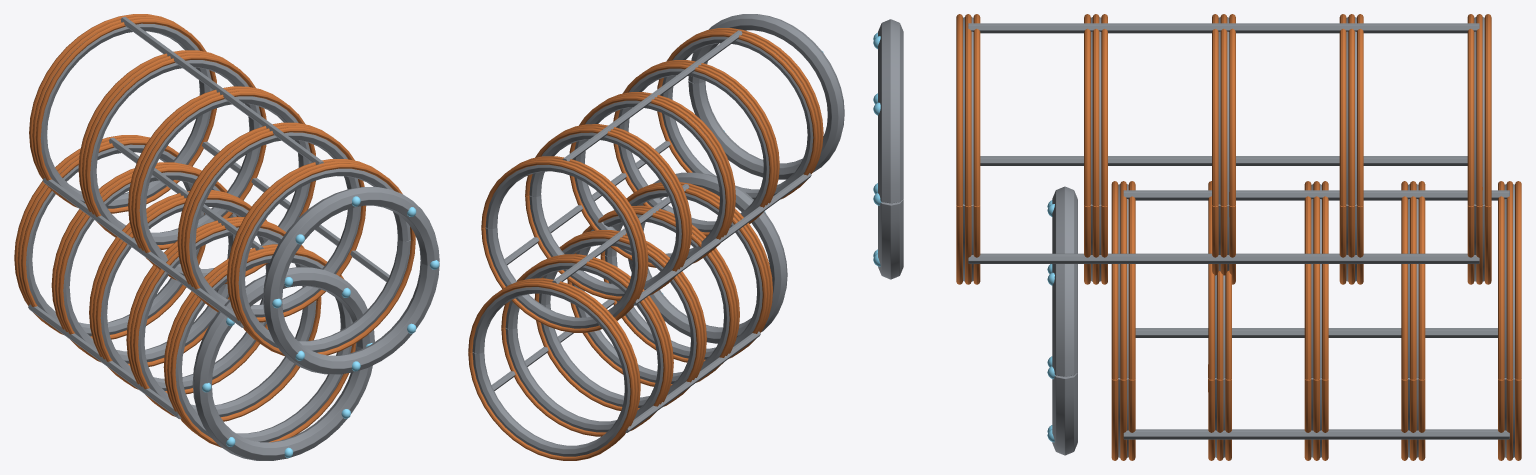
The model's file is strix_engine_ep.fbx.
3 views of the same model, side by side, from view 1: azimuth 30°, elevation 25°; view 2: azimuth 150°, elevation 25°; view 3: azimuth 270°, elevation 25° (orthographic). The views are drawn at different scales.
Parts seen in each view (by area): view 1: Engine_Coils; view 2: Engine_Coils; view 3: Engine_Coils.
Boxes of the visible parts, x1,y1,x2,y2 form: Engine_Coils: (14, 14, 439, 460); Engine_Coils: (468, 14, 844, 460); Engine_Coils: (873, 14, 1521, 460).
Size of the model in its own units: 65.08 by 109 by 151.
